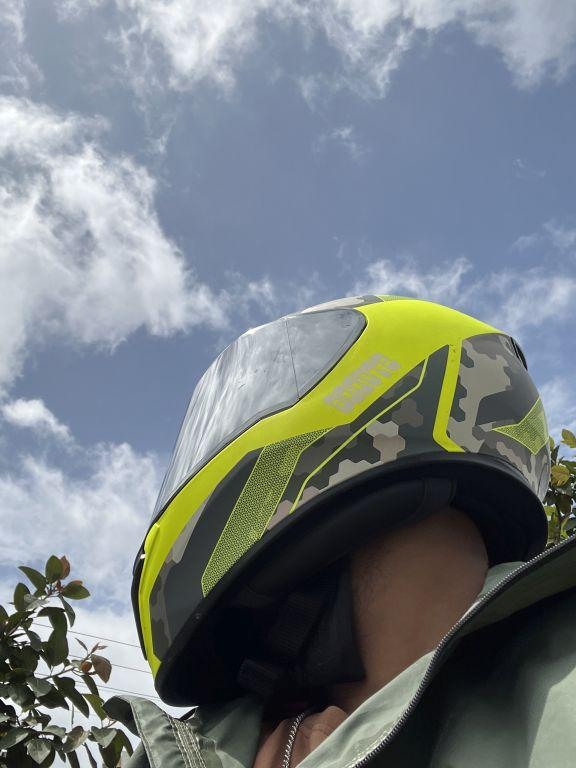helmet: (119, 282, 570, 722)
